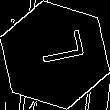L_W: (26, 34, 84, 76)
